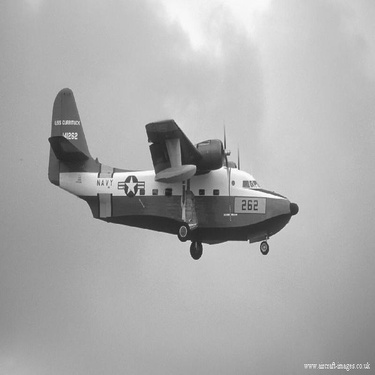airplane: (31, 77, 305, 264)
